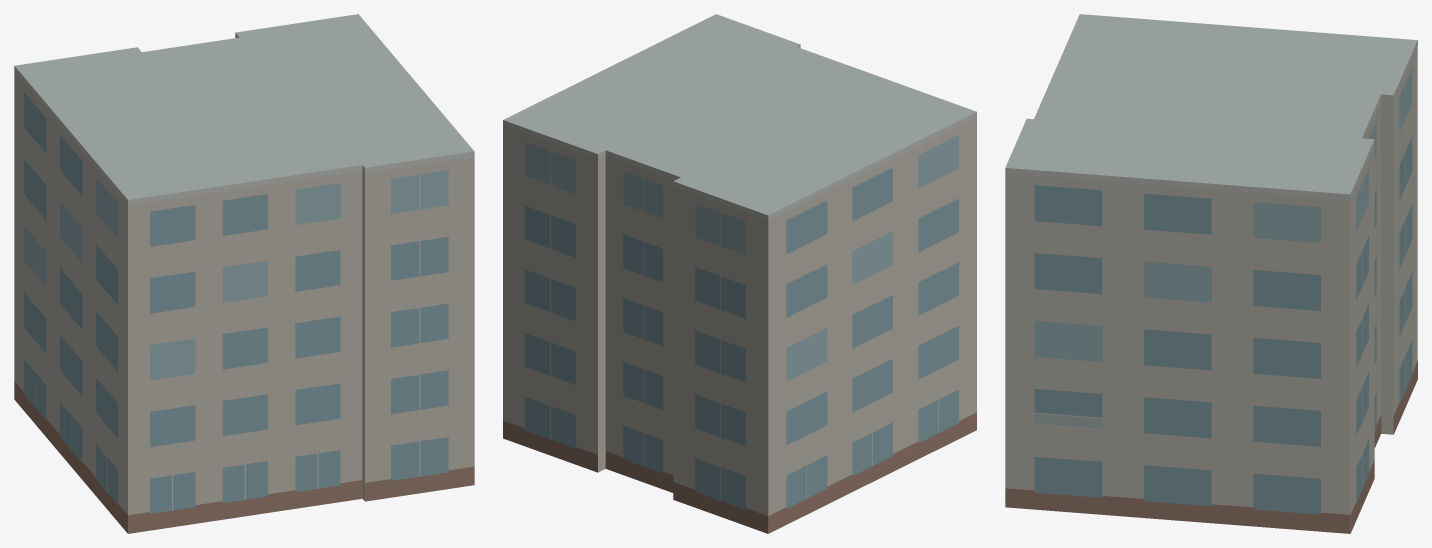
File: survey-upis-32869222.glb
3 renders of one model, left to right at view 1: azimuth 30°, elevation 25°; view 2: azimuth 150°, elevation 25°; view 3: azimuth 270°, elevation 25°, orthographic. The views are drawn at different scales.
Visible parts, largest first — view 1: survey-upis-32869222.tmp; view 2: survey-upis-32869222.tmp; view 3: survey-upis-32869222.tmp.
Boxes of the visible parts, x1,y1,x2,y2 form: survey-upis-32869222.tmp: [14, 14, 474, 533]; survey-upis-32869222.tmp: [503, 14, 976, 533]; survey-upis-32869222.tmp: [1005, 14, 1417, 533].
Size of the model in its own units: 16.88 by 14.8 by 16.31.
